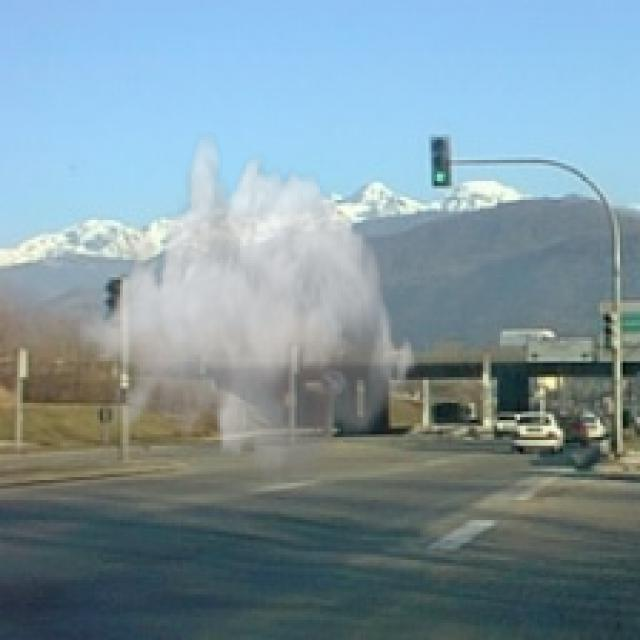smoke: (77, 131, 420, 500)
